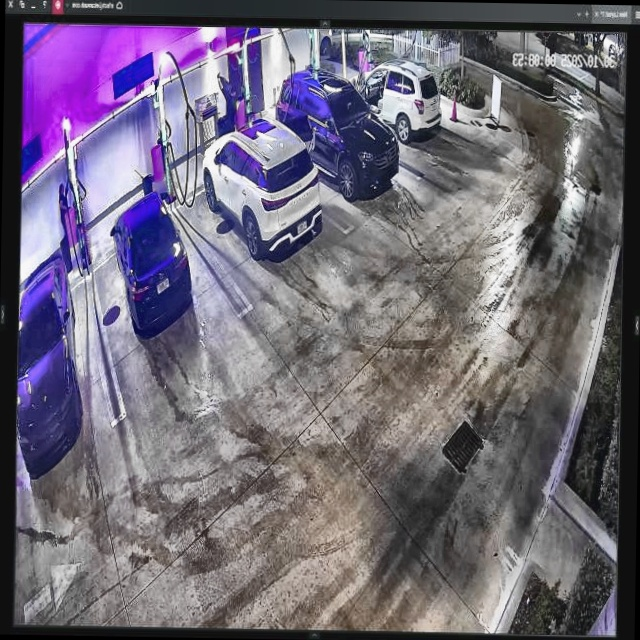Car: (201, 117, 322, 262), (274, 71, 401, 201), (108, 189, 192, 341), (347, 59, 443, 142)
